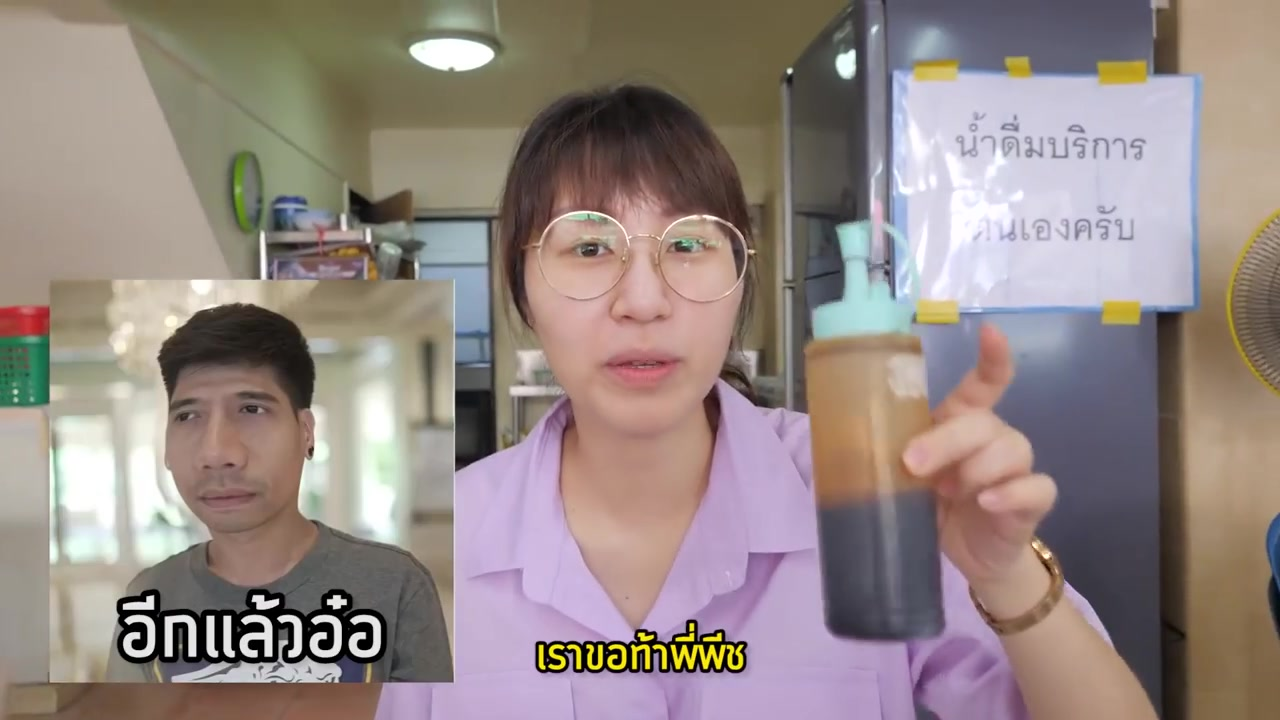text-label: (111, 587, 391, 667), (531, 617, 752, 677), (948, 107, 1153, 170)
